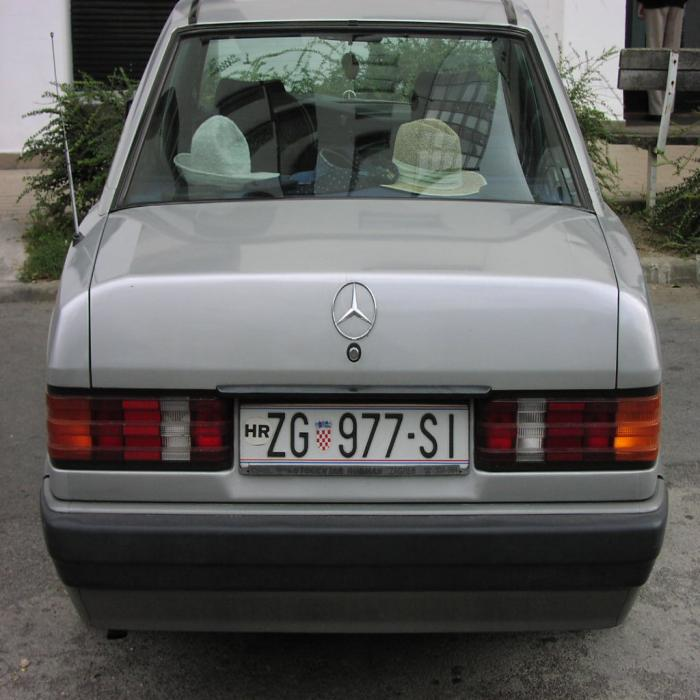number_plate: (241, 404, 468, 465)
